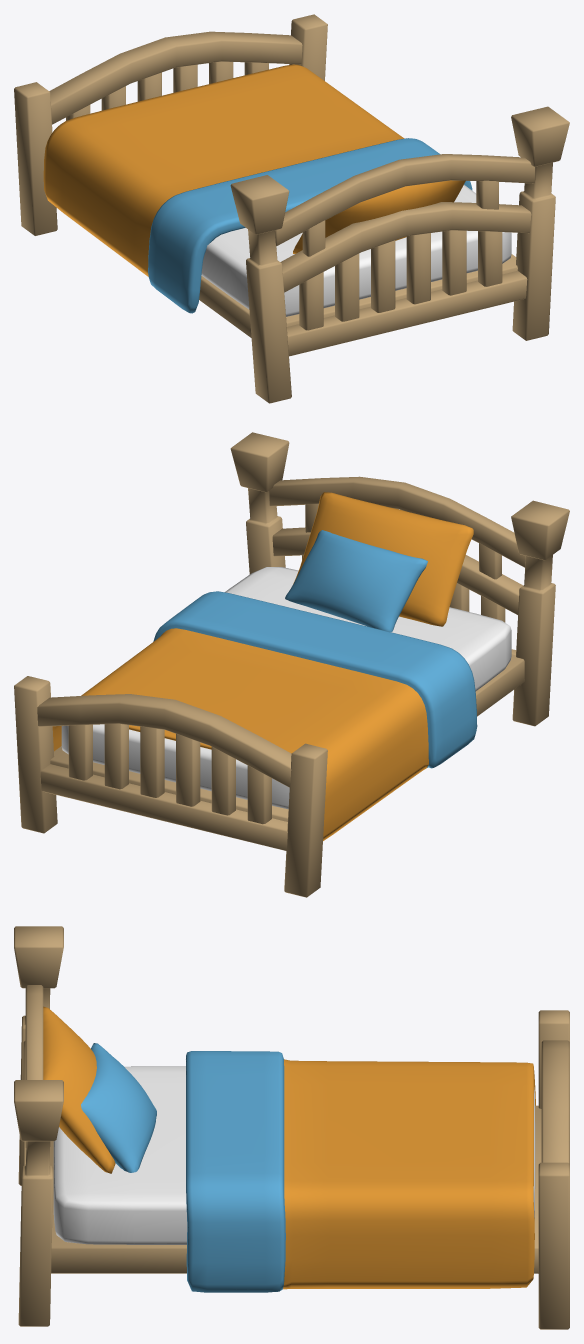
The model's file is Bed_LOD0.fbx.
3 views of the same model, one above another, from view 1: azimuth 30°, elevation 25°; view 2: azimuth 150°, elevation 25°; view 3: azimuth 270°, elevation 25° (orthographic). The views are drawn at different scales.
Visible parts, largest first — view 1: Bed_frame_003; view 2: Bed_frame_003; view 3: Bed_frame_003.
Part boxes in pixels (<box>): Bed_frame_003: <box>14,14,569,403</box>; Bed_frame_003: <box>14,432,569,897</box>; Bed_frame_003: <box>14,926,569,1329</box>.
Size of the model in its own units: 368 by 234 by 495.
